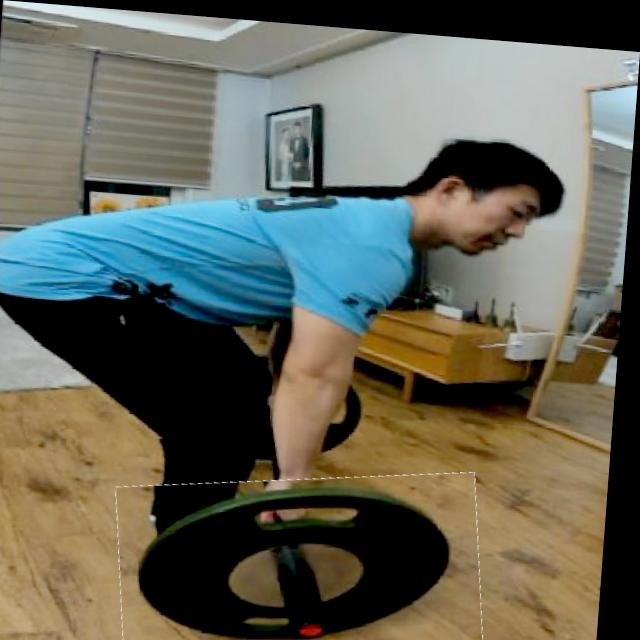barbell: (120, 452, 498, 640)
